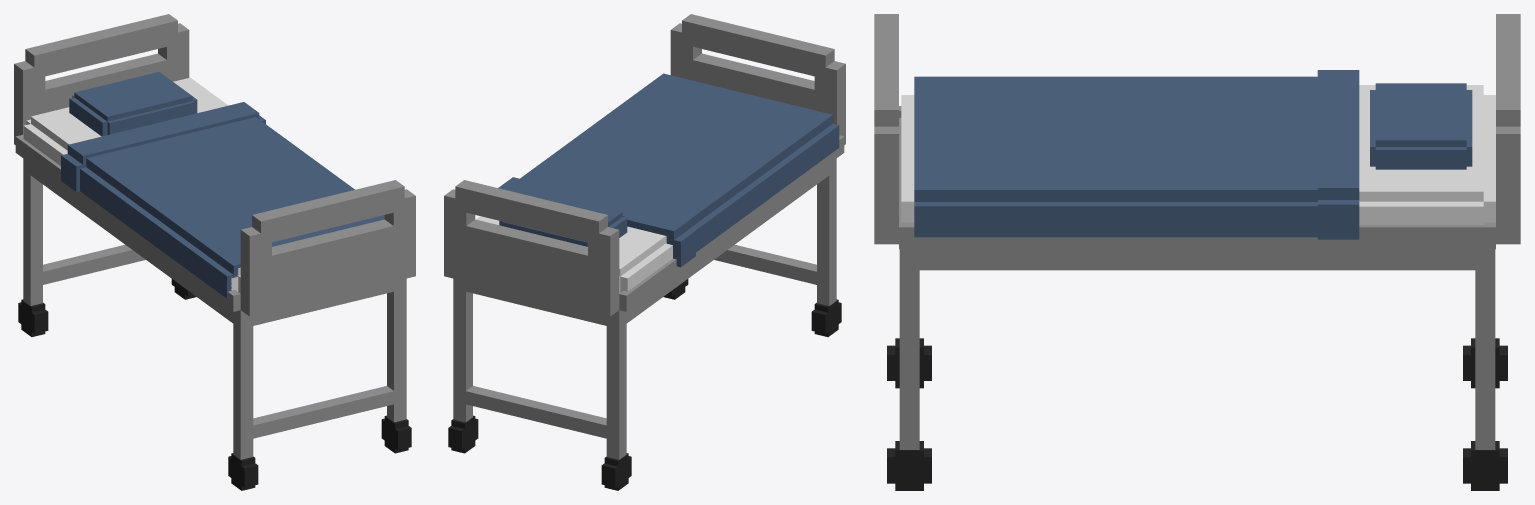
File: Bed.fbx
The picture shows the model from 3 angles, left to right: view 1: azimuth 30°, elevation 25°; view 2: azimuth 150°, elevation 25°; view 3: azimuth 270°, elevation 25°; orthographic projection. The views are drawn at different scales.
Parts seen in each view (by area): view 1: BedframeB; view 2: BedframeB; view 3: BedframeB.
Part boxes in pixels (<box>): BedframeB: <box>14,14,415,490</box>; BedframeB: <box>444,14,845,490</box>; BedframeB: <box>874,14,1520,490</box>.
Size of the model in its own units: 229 by 313 by 492.
